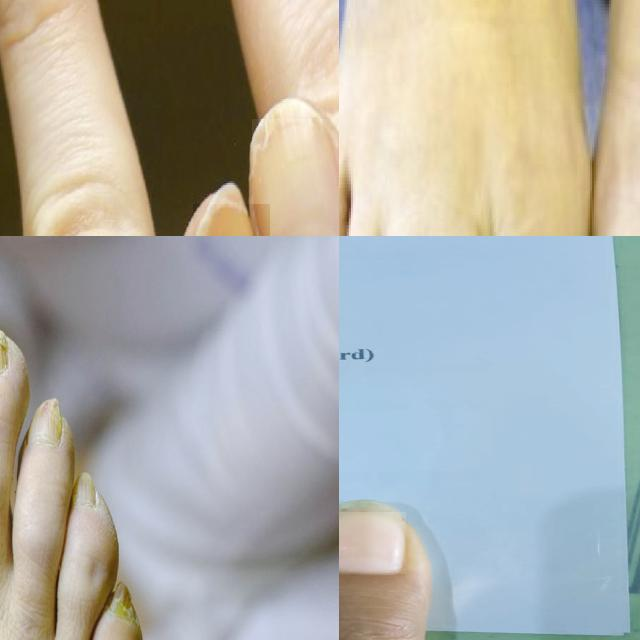diabetes: (28, 398, 62, 444), (109, 582, 138, 623), (71, 472, 97, 506), (0, 339, 7, 374)
sehat: (253, 119, 339, 236), (339, 512, 406, 574)
